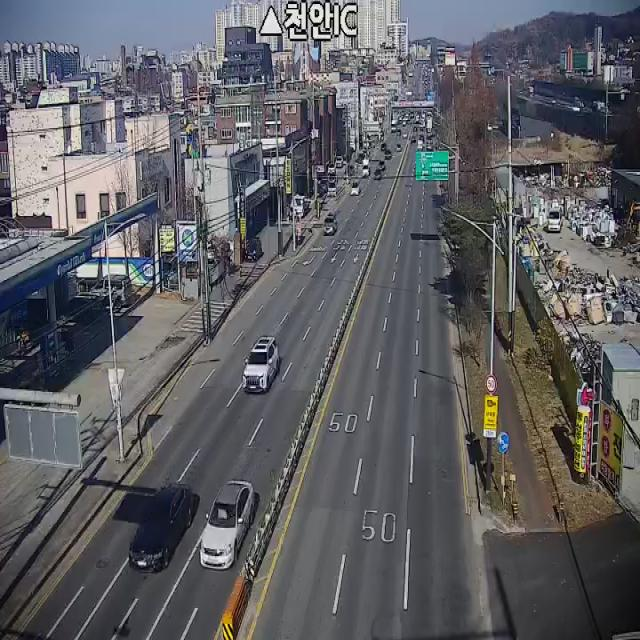Car: (128, 482, 192, 574), (199, 479, 255, 571), (242, 335, 280, 394), (96, 271, 133, 306), (245, 236, 263, 260), (323, 212, 338, 236), (327, 180, 337, 197), (350, 182, 360, 196)
Truck: (547, 207, 562, 232)
